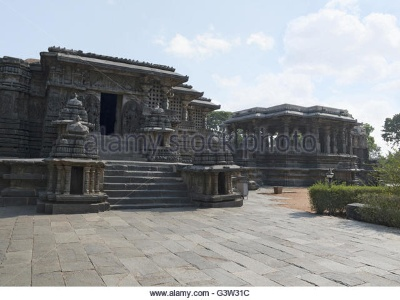mandapa: (241, 103, 364, 174)
